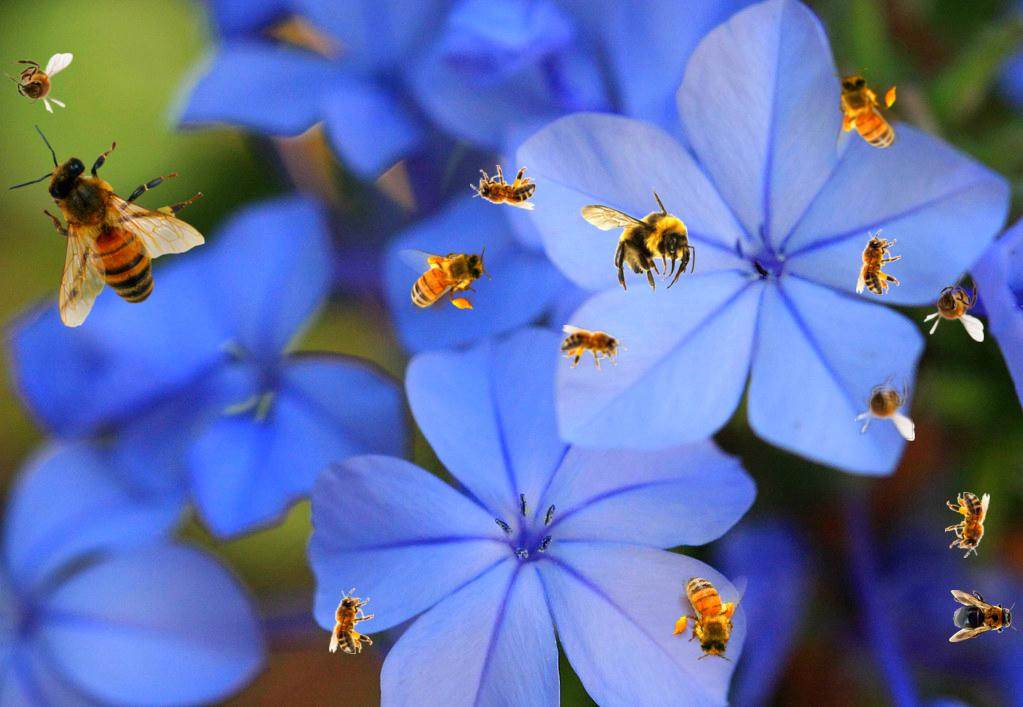Bee: (6, 124, 205, 328), (580, 186, 695, 293), (664, 561, 754, 668), (832, 68, 900, 161), (398, 245, 491, 313), (854, 371, 915, 441), (3, 53, 73, 114), (923, 272, 984, 342), (949, 590, 1017, 642), (945, 492, 990, 558), (329, 588, 374, 654), (561, 325, 627, 370), (856, 229, 901, 295), (470, 165, 536, 210)
